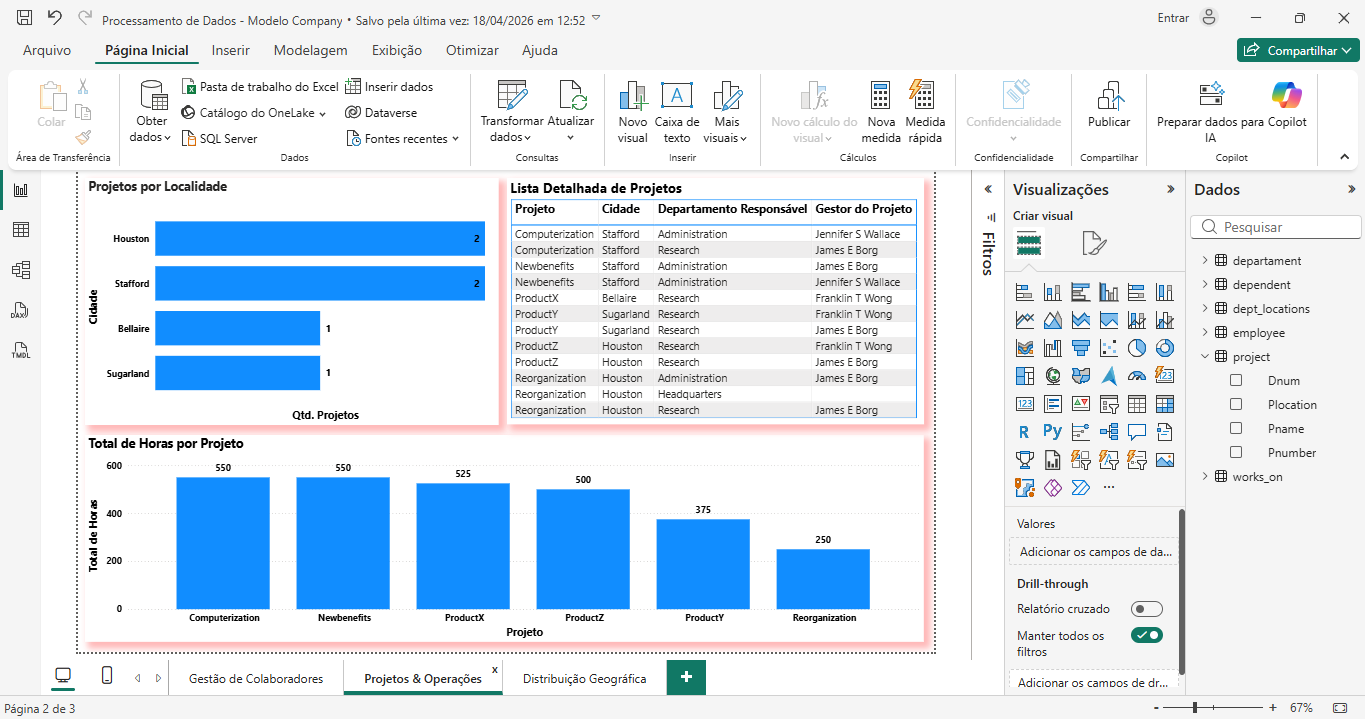

What the dashboard file says about the page in this screenshot:
{"tool":"powerbi","page":{"name":"Projetos & Operações","canvas":[1280,720],"ordinal":1},"visuals":[{"type":"barChart","title":"Projetos por Localidade","fields":{"Category":["project.Plocation"],"Y":["CountNonNull(project.Pname)"]},"box":[10.5,12,618.4,369],"z":0},{"type":"columnChart","title":"Total de Horas por Projeto","fields":{"Category":["project.Pname"],"Y":["Sum(works_on.Hours)"]},"box":[10.5,395.9,1253.3,309.2],"z":1000},{"type":"tableEx","title":"Lista Detalhada de Projetos","fields":{"Values":["project.Pname","project.Plocation","departament.Dname","employee.Manager_Name"]},"box":[640.7,12,622.8,368.3],"z":2000}]}

Visuals, with their boxes on the page's 1280x720 design canvas (x1, y1, x2, y2). These are canvas units, not pixel positions in the 1365x719 screenshot, which may show the page scaled, cropped or inside an application window:
"Projetos por Localidade" barChart: <box>10,12,629,381</box>
"Total de Horas por Projeto" columnChart: <box>10,396,1264,705</box>
"Lista Detalhada de Projetos" tableEx: <box>641,12,1264,380</box>
